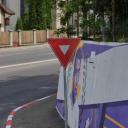preferencia: (42, 32, 86, 70)
